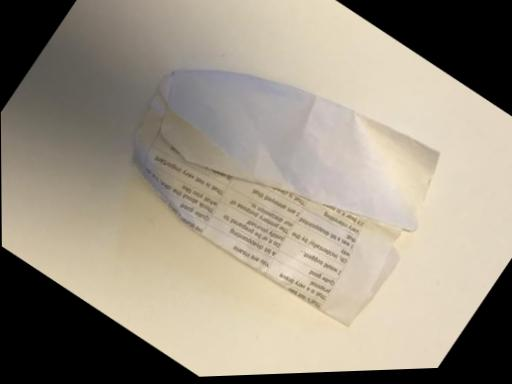paper: (99, 0, 461, 344)
